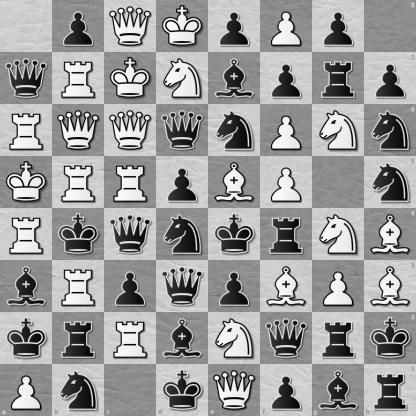B: (364, 260, 416, 312), (364, 209, 416, 260), (209, 157, 260, 208), (261, 261, 312, 312)
K: (1, 157, 52, 208), (105, 53, 156, 104), (157, 1, 208, 52)
N: (157, 53, 208, 104), (209, 313, 260, 364), (313, 105, 364, 156), (313, 209, 364, 260)
P: (0, 364, 52, 416), (261, 1, 312, 52), (261, 105, 312, 156), (261, 157, 312, 208), (313, 261, 364, 312)
Q: (209, 364, 260, 416), (53, 105, 104, 156), (105, 1, 156, 52), (105, 105, 156, 156)
R: (1, 105, 52, 156), (1, 209, 52, 260), (53, 53, 104, 104), (53, 157, 104, 208), (53, 261, 104, 312), (105, 157, 156, 208), (105, 313, 156, 364)
b: (312, 364, 364, 416), (1, 261, 52, 312), (157, 313, 208, 364), (209, 53, 260, 104)
board: (0, 0, 415, 415)
k: (156, 364, 209, 416), (364, 312, 416, 364), (1, 313, 52, 364), (53, 209, 104, 260), (209, 209, 260, 260)
n: (364, 156, 416, 209), (52, 364, 104, 416), (364, 104, 416, 156), (157, 209, 208, 260), (209, 105, 260, 156)
p: (260, 364, 312, 416), (364, 52, 416, 104), (53, 1, 104, 52), (105, 261, 156, 312), (157, 157, 208, 208), (209, 1, 260, 52), (209, 261, 260, 312), (261, 53, 312, 104), (313, 1, 364, 52)
q: (1, 53, 52, 104), (105, 209, 156, 260), (157, 105, 208, 156), (157, 261, 208, 312), (261, 313, 312, 364)
r: (364, 364, 416, 416), (53, 313, 104, 364), (261, 209, 312, 260), (313, 53, 364, 104), (313, 313, 364, 364)
